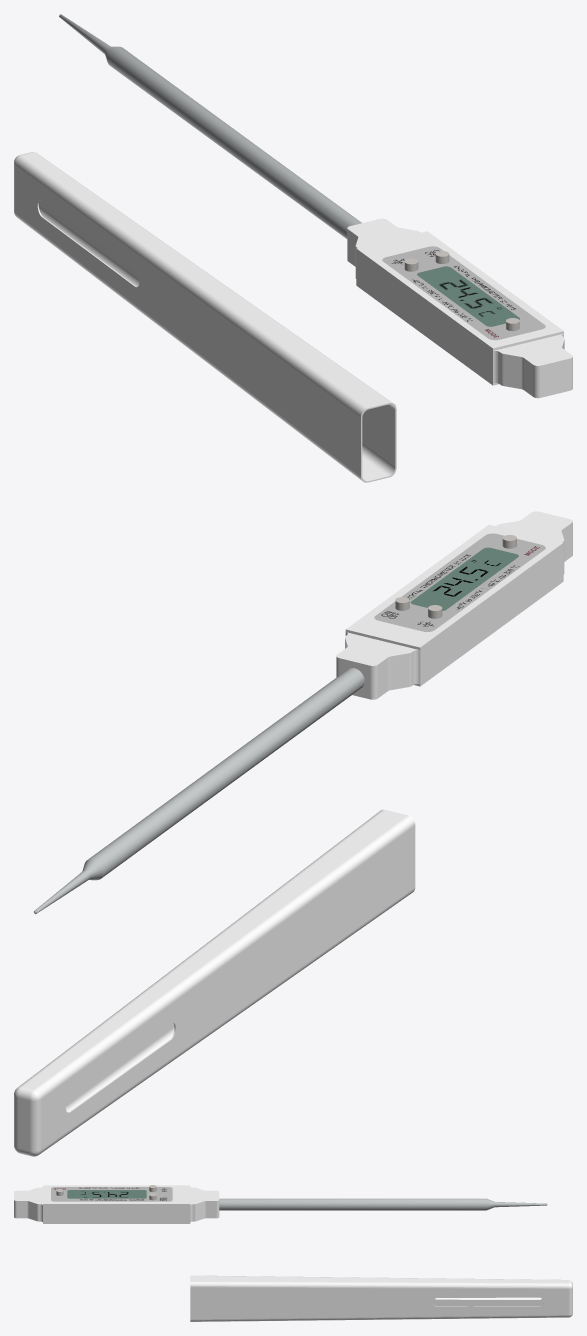
The model's file is 09-Pen Type Thermometer V04.fbx.
3 renders of one model, top to bottom at view 1: azimuth 30°, elevation 25°; view 2: azimuth 150°, elevation 25°; view 3: azimuth 270°, elevation 25°, orthographic. The views are drawn at different scales.
Parts seen in each view (by area): view 1: Pen Type Thermometer V2_A, Pen Type Thermometer V2, Pen Type Thermometer Screen; view 2: Pen Type Thermometer V2_A, Pen Type Thermometer V2, Pen Type Thermometer Screen; view 3: Pen Type Thermometer V2_A, Pen Type Thermometer V2, Pen Type Thermometer Screen.
Boxes of the visible parts, bbox=[...] form: Pen Type Thermometer V2_A: bbox=[14, 152, 396, 482]; Pen Type Thermometer V2: bbox=[59, 14, 572, 398]; Pen Type Thermometer Screen: bbox=[382, 246, 545, 340]; Pen Type Thermometer V2_A: bbox=[14, 809, 415, 1156]; Pen Type Thermometer V2: bbox=[34, 511, 572, 914]; Pen Type Thermometer Screen: bbox=[374, 533, 545, 631]; Pen Type Thermometer V2_A: bbox=[190, 1275, 572, 1321]; Pen Type Thermometer V2: bbox=[14, 1185, 547, 1223]; Pen Type Thermometer Screen: bbox=[51, 1187, 172, 1201].
Size of the model in its own units: 2.35 by 7.72 by 29.71.
Materials: 2 (2 with a texture image).
